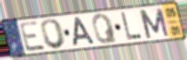A: (72, 16, 96, 48)
E: (18, 20, 48, 53)
L: (120, 12, 144, 42)
M: (138, 7, 171, 40)
O: (39, 18, 68, 50)
Q: (91, 13, 119, 45)
